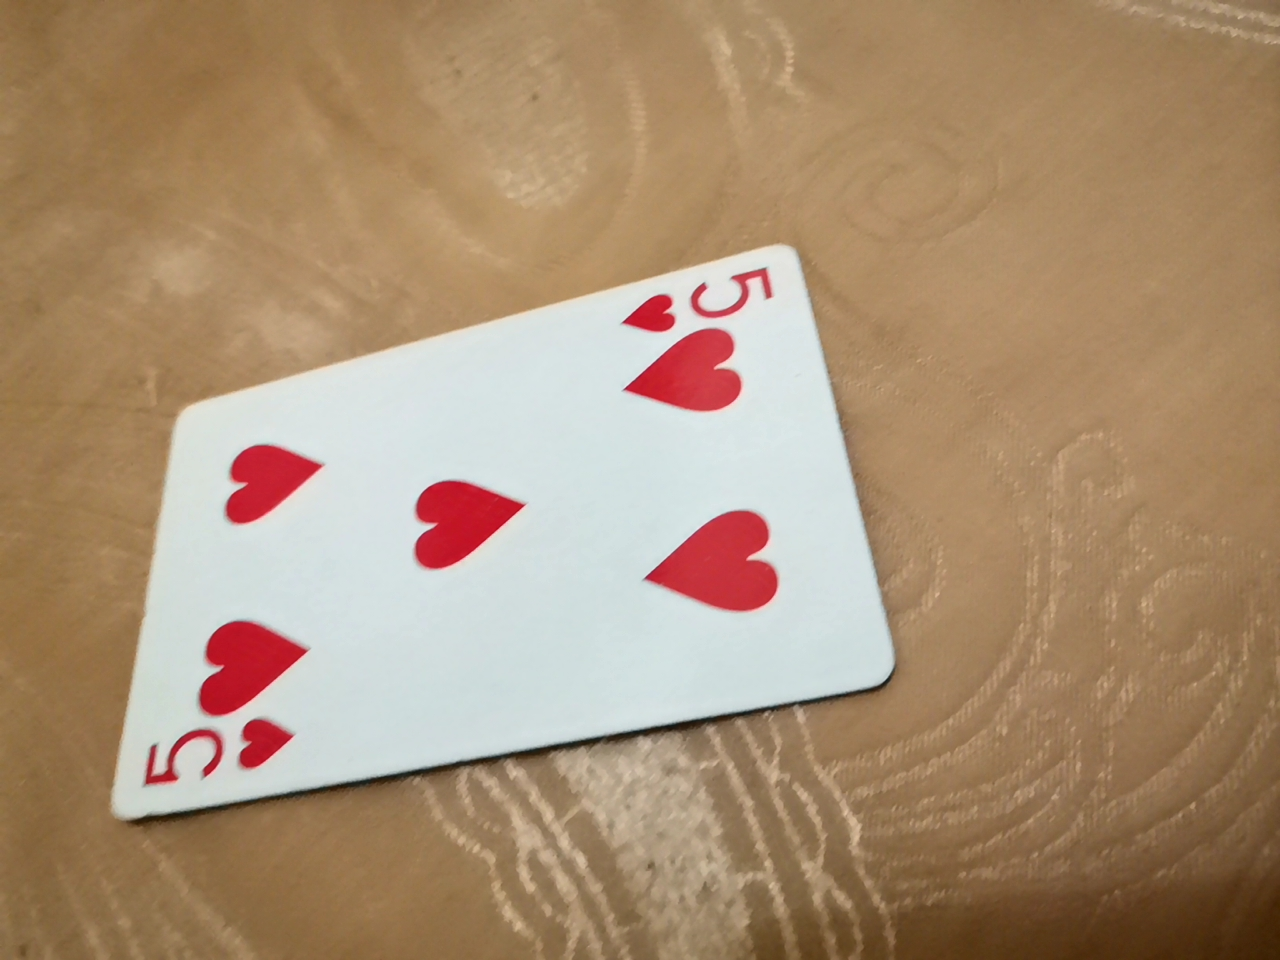hx 5: (81, 275, 867, 864)
